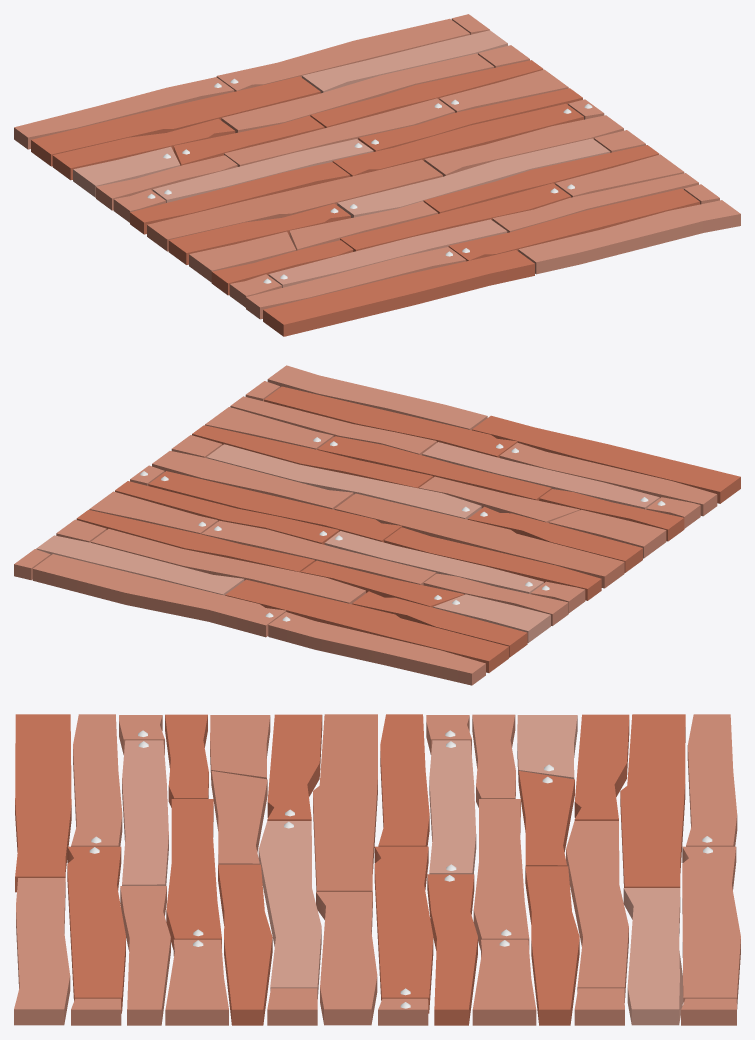
Rendered from floor_026.glb.
3 renders of one model, top to bottom at view 1: azimuth 30°, elevation 25°; view 2: azimuth 150°, elevation 25°; view 3: azimuth 270°, elevation 25°, orthographic. The views are drawn at different scales.
Parts seen in each view (by area): view 1: floor_026; view 2: floor_026; view 3: floor_026.
Boxes of the visible parts, x1=… form: floor_026: x1=14, y1=14, x2=740, y2=336; floor_026: x1=14, y1=365, x2=740, y2=685; floor_026: x1=14, y1=714, x2=740, y2=1025.
Bounding box in the file's own units: 3.79 × 0.1222 × 3.94.
1 material, 1 textured.
